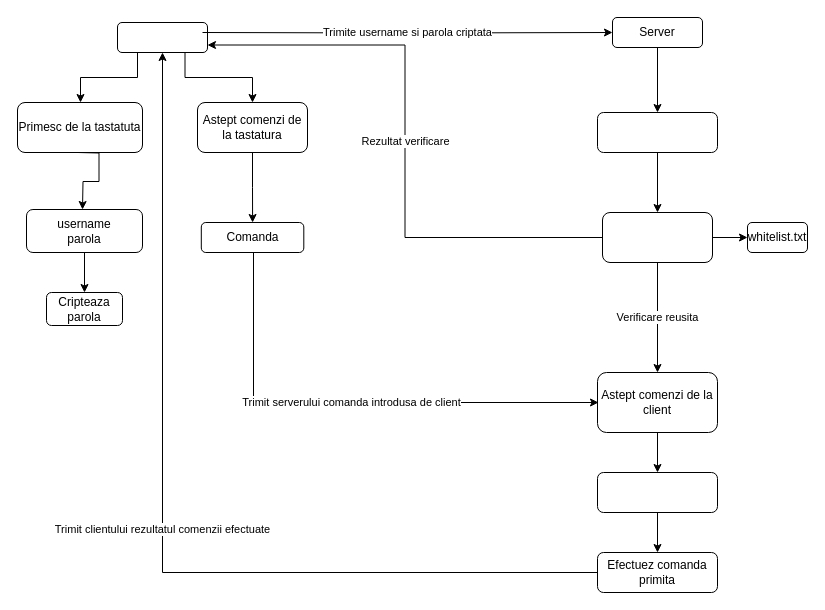
Image size: 825x610. Some labels were removed from this diagram. Each missing label, with the centre of its shape:
"Client" goes at point 162,37.
"Decripteaza parola" goes at point 657,132.
"Verific comanda" goes at point 657,492.
"Verific combinatia username parola" goes at point 657,237.
